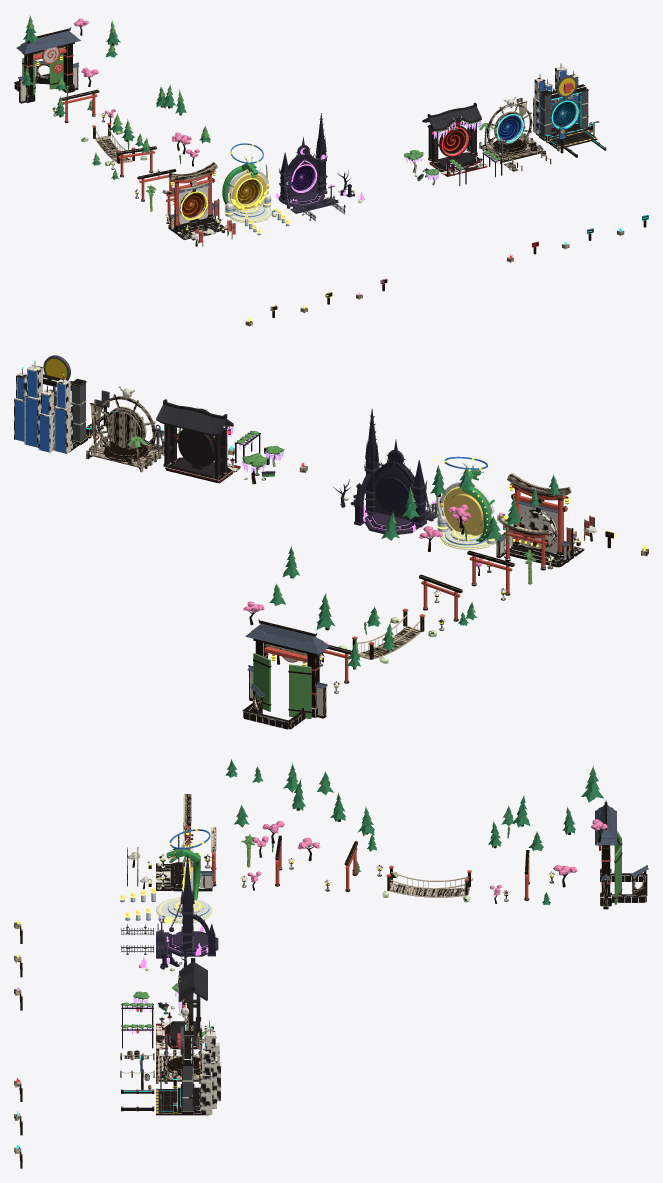
Rendered from LOBBY_06_PORTALS_9df2fe.fbx.
The picture shows the model from 3 angles, top to bottom: view 1: azimuth 30°, elevation 25°; view 2: azimuth 150°, elevation 25°; view 3: azimuth 270°, elevation 25°; orthographic projection. The views are drawn at different scales.
Parts seen in each view (by area): view 1: PORTAL_OnePunchMan_City__P_OPM_Concrete, PORTAL_DemonSlayer_Gate__P_DS_Char, PORTAL_ShadowGarden_Gothic__P_Shadow_Stone, PORTAL_OnePunchMan_City__Metal_Dark, KONOHA_Trees__Leaf_Pine, PORTAL_DragonBall_Ring__P_DB_White, KONOHA_Great_Gate__Wood_Dark, PORTAL_ShadowGarden_Gothic__P_Shadow_Trim, KONOHA_Trees__Leaf_Pine_Light, PORTAL_Naruto_Torii__P_Naruto_Red, KONOHA_Great_Gate__P_Naruto_Tile, KONOHA_Pass_Decor__P_Naruto_Red (+15 smaller); view 2: PORTAL_ShadowGarden_Gothic__P_Shadow_Stone, PORTAL_DemonSlayer_Gate__P_DS_Char, KONOHA_Trees__Leaf_Pine, PORTAL_OnePunchMan_City__P_OPM_Concrete, PORTAL_OnePunchMan_City__P_OPM_DarkGlass, KONOHA_Great_Gate__Leaf_Pine_Light, PORTAL_OnePiece_Pier__Wood_Dark, PORTAL_ShadowGarden_Gothic__P_Shadow_Trim, KONOHA_Great_Gate__Wood_Dark, KONOHA_Pass_Decor__P_Naruto_Red, KONOHA_Great_Gate__P_Naruto_Tile, PORTAL_DemonSlayer_Gate__P_DS_Tile (+12 smaller); view 3: PORTAL_OnePunchMan_City__P_OPM_Concrete, KONOHA_Trees__Leaf_Pine, PORTAL_ShadowGarden_Gothic__P_Shadow_Stone, PORTAL_DemonSlayer_Gate__P_DS_Char, PORTAL_DragonBall_Ring__P_DB_White, PORTAL_OnePunchMan_City__Metal_Dark, PORTAL_ShadowGarden_Gothic__P_Shadow_Trim, KONOHA_Trees__Sakura_Pink, KONOHA_Great_Gate__Wood_Dark, KONOHA_Great_Gate__P_Naruto_Tile, PORTAL_DemonSlayer_Gate__P_DS_Tile, PORTAL_ShadowGarden_Gothic__Metal_Dark (+4 smaller).
Part boxes in pixels (left/top/right/bottom): PORTAL_OnePunchMan_City__P_OPM_Concrete: left=533, top=66, right=606, bottom=157; PORTAL_DemonSlayer_Gate__P_DS_Char: left=427, top=102, right=502, bottom=185; PORTAL_ShadowGarden_Gothic__P_Shadow_Stone: left=280, top=113, right=338, bottom=210; PORTAL_OnePunchMan_City__Metal_Dark: left=539, top=64, right=599, bottom=150; KONOHA_Trees__Leaf_Pine: left=21, top=23, right=210, bottom=179; PORTAL_DragonBall_Ring__P_DB_White: left=225, top=154, right=289, bottom=235; KONOHA_Great_Gate__Wood_Dark: left=19, top=27, right=78, bottom=101; PORTAL_ShadowGarden_Gothic__P_Shadow_Trim: left=278, top=145, right=345, bottom=215; KONOHA_Trees__Leaf_Pine_Light: left=24, top=15, right=209, bottom=196; PORTAL_Naruto_Torii__P_Naruto_Red: left=170, top=171, right=235, bottom=242; KONOHA_Great_Gate__P_Naruto_Tile: left=16, top=30, right=80, bottom=80; KONOHA_Pass_Decor__P_Naruto_Red: left=63, top=93, right=174, bottom=213; PORTAL_ShadowGarden_Gothic__P_Shadow_Stone: left=355, top=409, right=428, bottom=529; PORTAL_DemonSlayer_Gate__P_DS_Char: left=163, top=399, right=260, bottom=477; KONOHA_Trees__Leaf_Pine: left=269, top=466, right=560, bottom=668; PORTAL_OnePunchMan_City__P_OPM_Concrete: left=14, top=365, right=108, bottom=453; PORTAL_OnePunchMan_City__P_OPM_DarkGlass: left=15, top=370, right=65, bottom=453; KONOHA_Great_Gate__Leaf_Pine_Light: left=253, top=653, right=311, bottom=718; PORTAL_OnePiece_Pier__Wood_Dark: left=89, top=399, right=180, bottom=472; PORTAL_ShadowGarden_Gothic__P_Shadow_Trim: left=354, top=450, right=441, bottom=534; KONOHA_Great_Gate__Wood_Dark: left=249, top=618, right=326, bottom=715; KONOHA_Pass_Decor__P_Naruto_Red: left=322, top=526, right=547, bottom=681; KONOHA_Great_Gate__P_Naruto_Tile: left=245, top=623, right=329, bottom=697; PORTAL_DemonSlayer_Gate__P_DS_Tile: left=156, top=404, right=233, bottom=435; PORTAL_OnePunchMan_City__P_OPM_Concrete: left=121, top=1025, right=221, bottom=1115; KONOHA_Trees__Leaf_Pine: left=225, top=759, right=603, bottom=905; PORTAL_ShadowGarden_Gothic__P_Shadow_Stone: left=156, top=854, right=215, bottom=958; PORTAL_DemonSlayer_Gate__P_DS_Char: left=121, top=958, right=200, bottom=1048; PORTAL_DragonBall_Ring__P_DB_White: left=120, top=838, right=212, bottom=923; PORTAL_OnePunchMan_City__Metal_Dark: left=141, top=1021, right=215, bottom=1112; PORTAL_ShadowGarden_Gothic__P_Shadow_Trim: left=127, top=893, right=218, bottom=957; KONOHA_Trees__Sakura_Pink: left=247, top=819, right=607, bottom=895; KONOHA_Great_Gate__Wood_Dark: left=601, top=799, right=646, bottom=906; KONOHA_Great_Gate__P_Naruto_Tile: left=595, top=805, right=648, bottom=880; PORTAL_DemonSlayer_Gate__P_DS_Tile: left=180, top=962, right=207, bottom=1001; PORTAL_ShadowGarden_Gothic__Metal_Dark: left=121, top=888, right=193, bottom=956.
Size of the model in its own units: 250 by 79.13 by 258.
44 materials, 9 textured.
